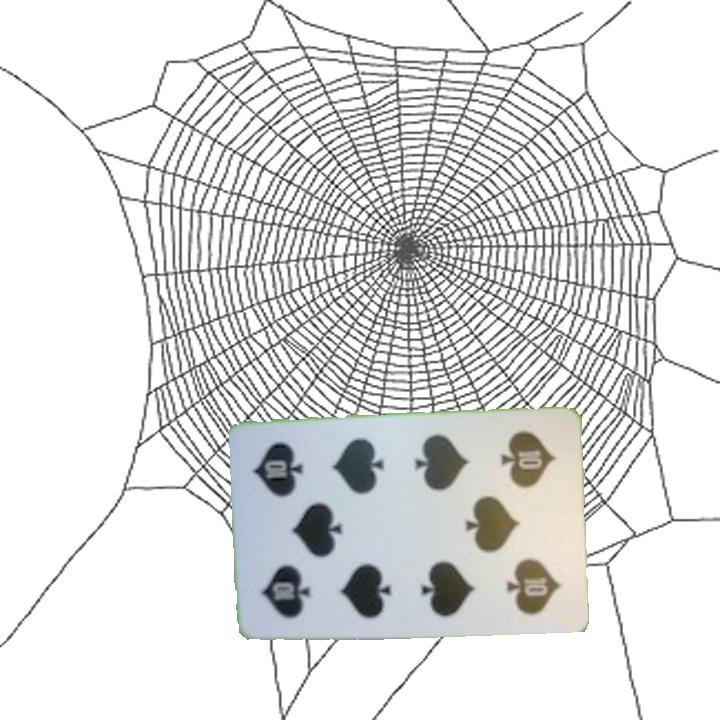s_10.png: (248, 525, 337, 628), (480, 423, 569, 526)
